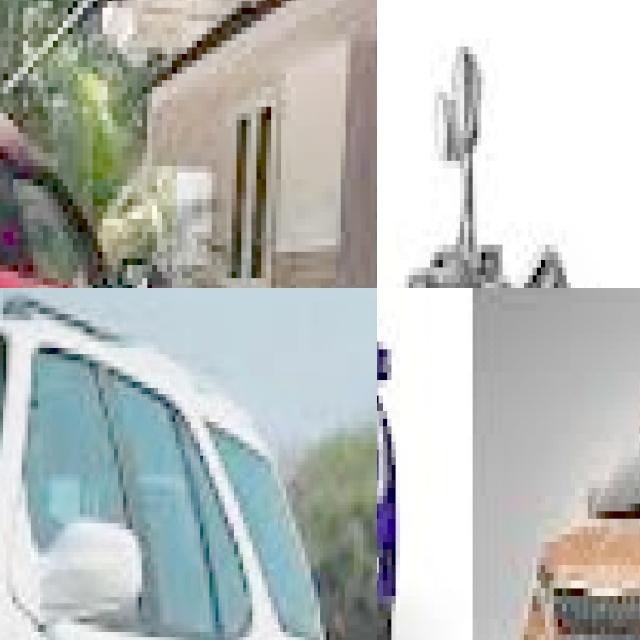bike: (377, 222, 640, 288)
car: (0, 288, 354, 640), (0, 54, 187, 288), (515, 372, 640, 640), (377, 288, 421, 640)
